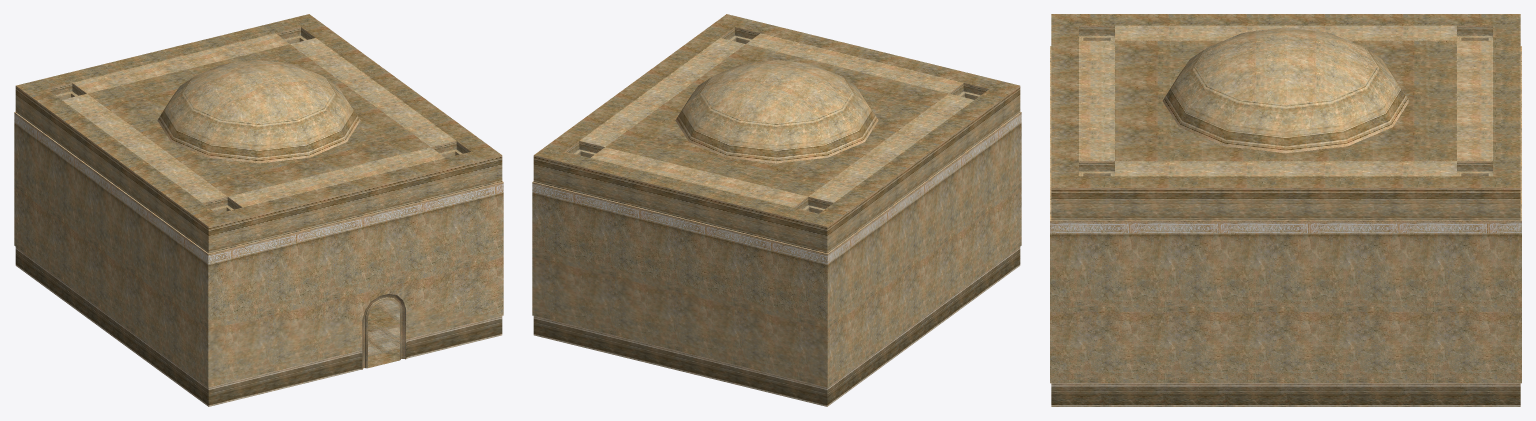
The model's file is mun_all_capitol_s01_r11_meeting6_mesh_meeting6.fbx.
3 views of the same model, side by side, from view 1: azimuth 30°, elevation 25°; view 2: azimuth 150°, elevation 25°; view 3: azimuth 270°, elevation 25° (orthographic). The views are drawn at different scales.
Parts seen in each view (by area): view 1: mesh_node; view 2: mesh_node; view 3: mesh_node.
Part boxes in pixels (x1,y1,x2,y2): mesh_node: (14, 14, 503, 406); mesh_node: (532, 14, 1021, 406); mesh_node: (1050, 14, 1521, 406).
Bounding box in the file's own units: 15.07 × 11.06 × 17.14.
